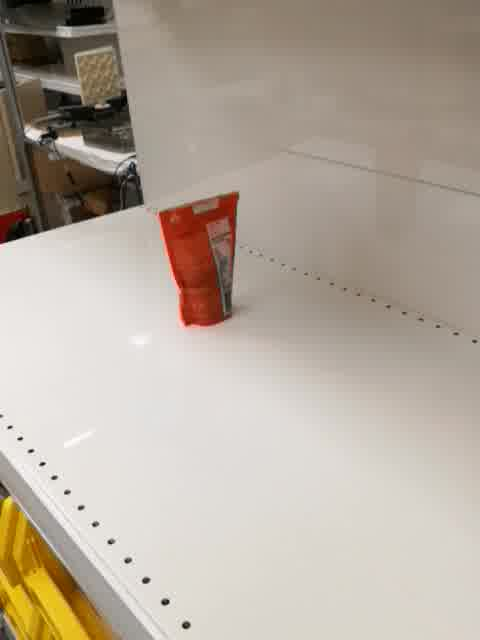whitechia: (155, 186, 241, 329)
